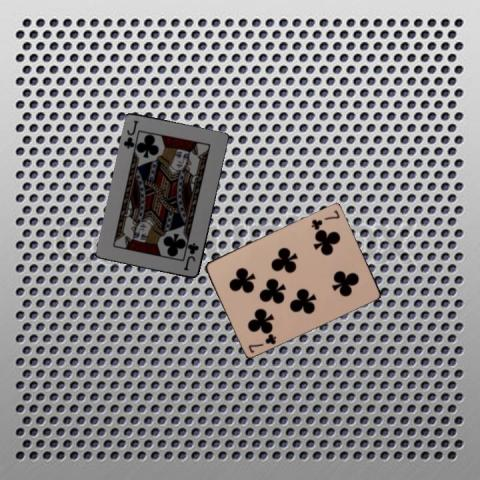7c: (245, 330, 278, 354), (308, 207, 341, 230)
Jc: (181, 240, 201, 272), (121, 117, 140, 150)
